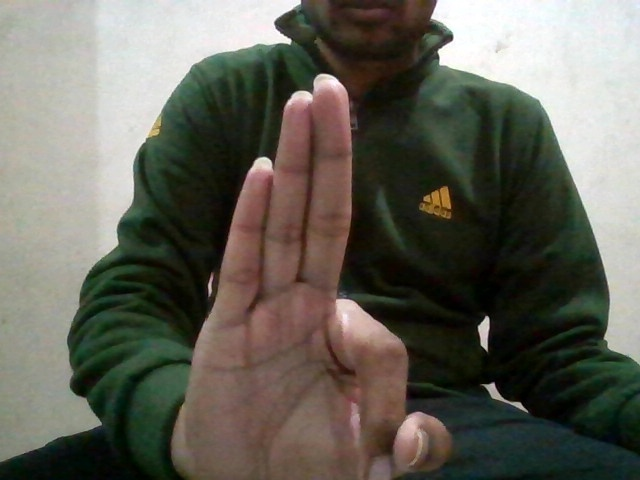F: (176, 71, 453, 480)
